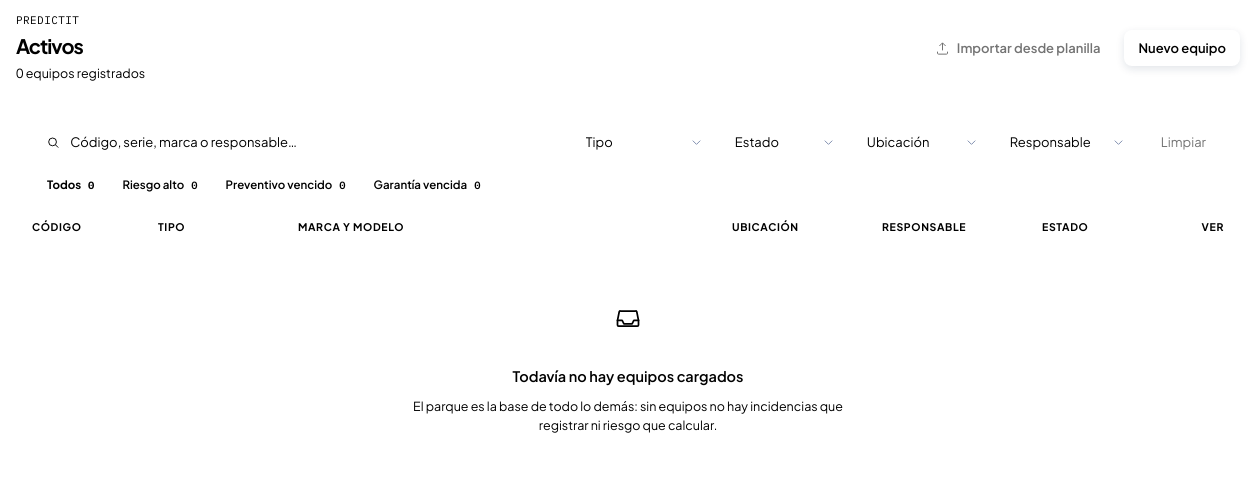
Scenario: Pantalla de activos › distingue el parque vacío de una búsqueda sin resultados
(page scrolled)
Expected: the text "Todavía no hay equipos cargados" is shown, [512,367,744,385]
Type "ZZZ" into the field with placeholder "Código, serie, marca o responsable…".
click(311, 142); type("ZZZ")  # box [68,133,554,151]
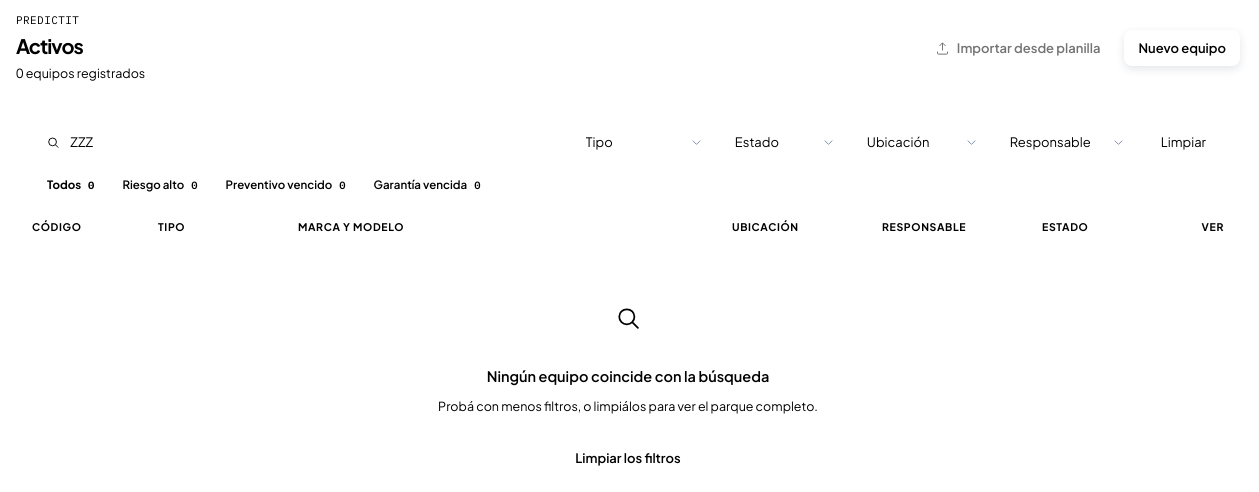
Expected: the text "Ningún equipo coincide con la búsqueda" is shown, [487,367,769,385]
Expected: the button "Limpiar los filtros" is shown, [561,440,695,476]
